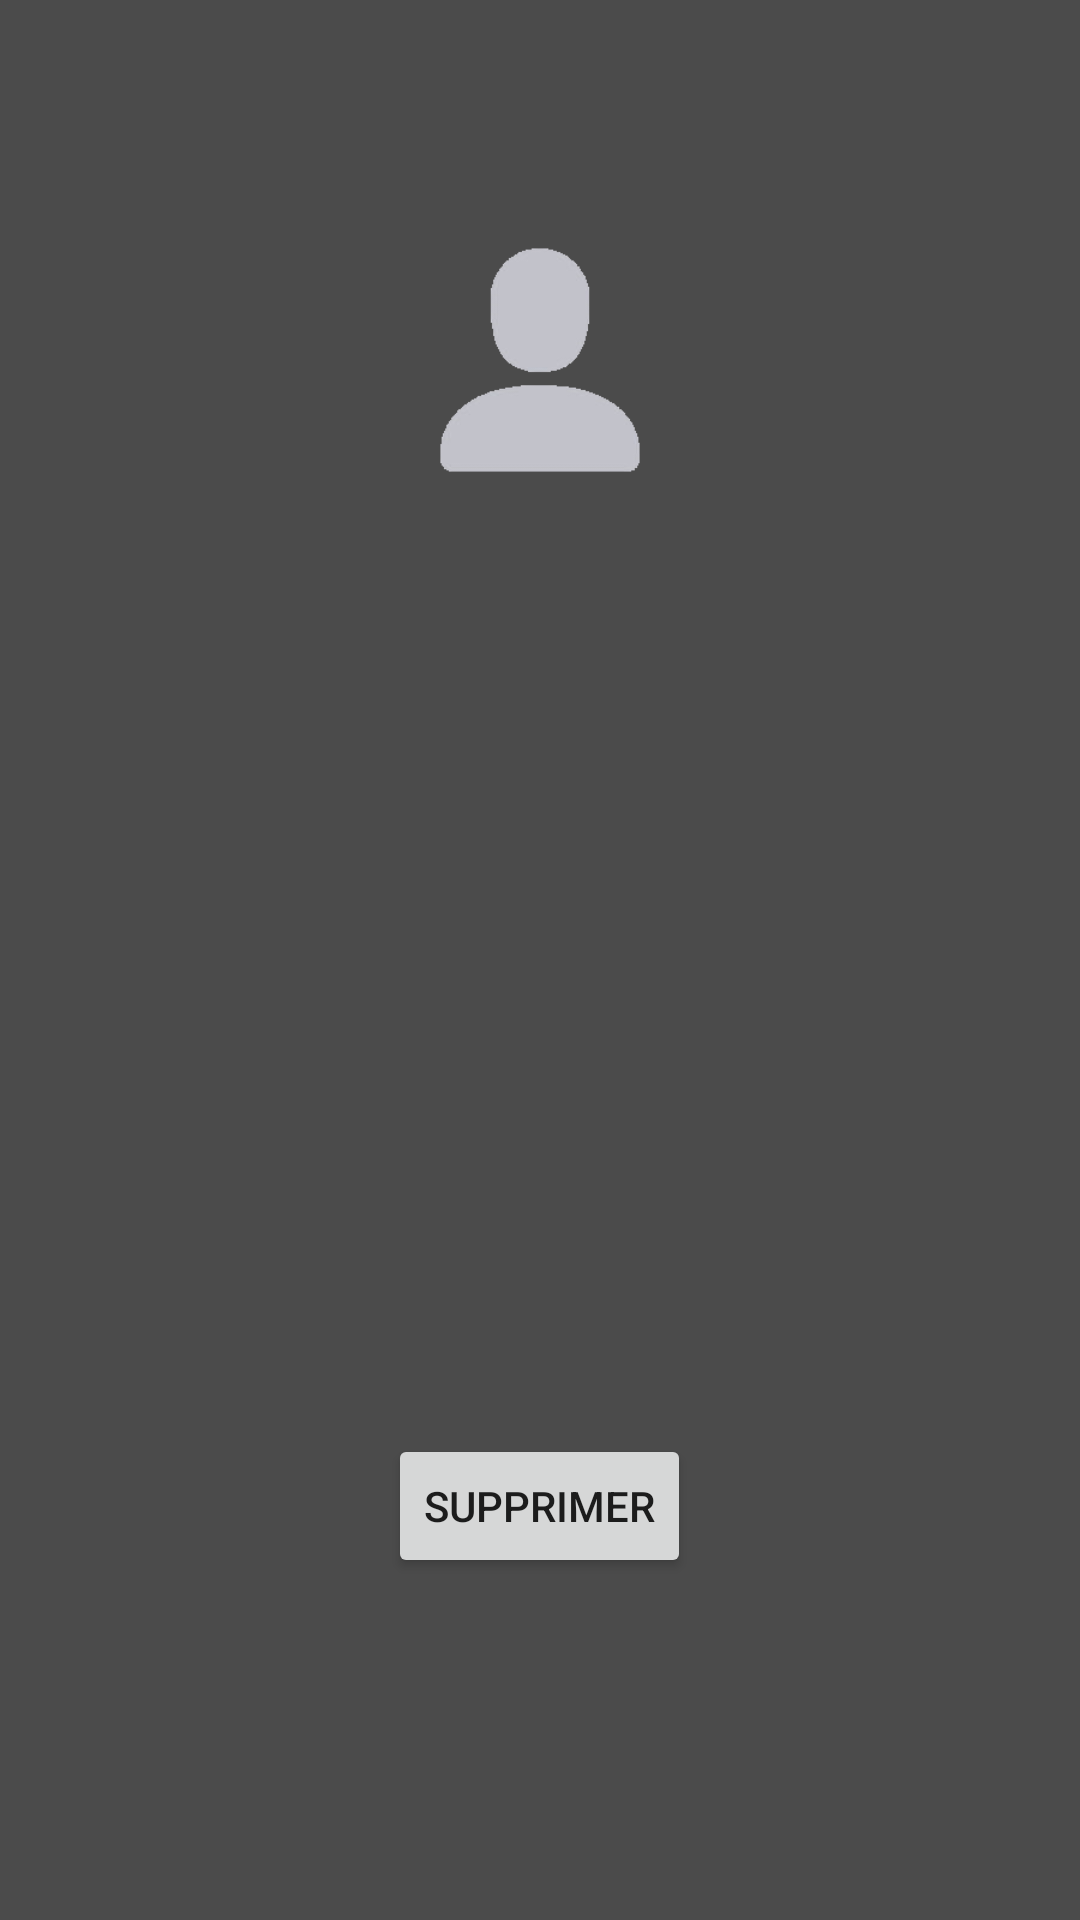

Named icons in this screenshot (1080px x 1920px) and their bounding boxes, [x1,y1,x2,y2]:
profile empty: [440,248,640,472]
